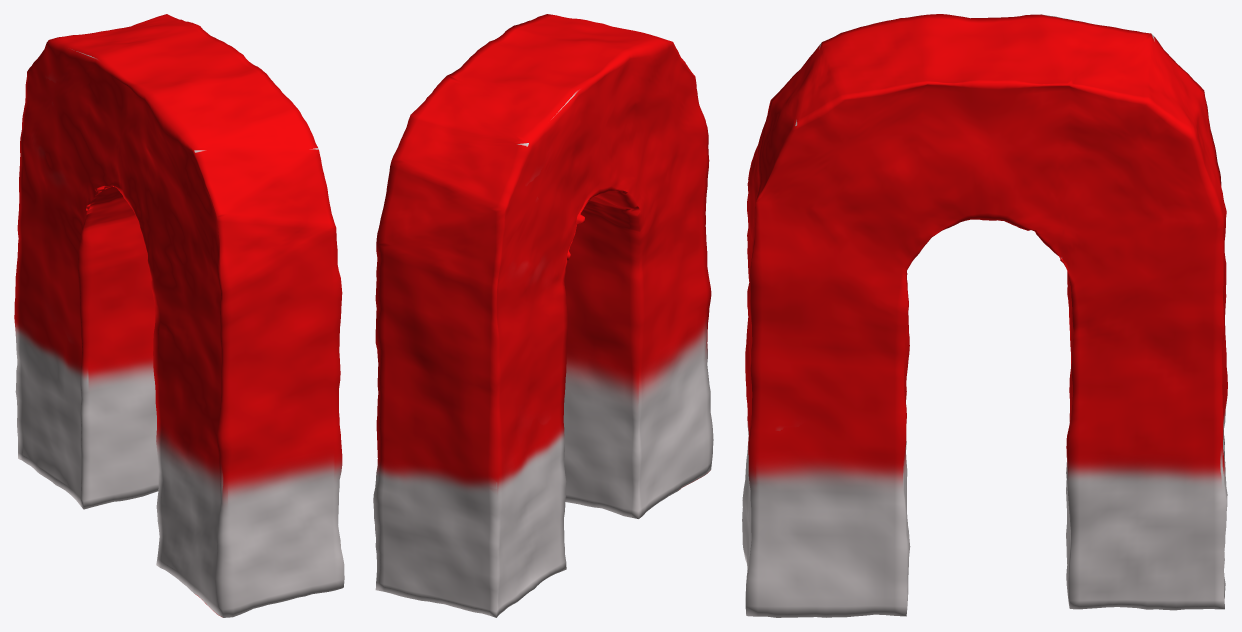
Rendered from Imán.glb.
The picture shows the model from 3 angles, left to right: view 1: azimuth 30°, elevation 25°; view 2: azimuth 150°, elevation 25°; view 3: azimuth 270°, elevation 25°; orthographic projection. The views are drawn at different scales.
Parts seen in each view (by area): view 1: imán; view 2: imán; view 3: imán.
Boxes of the visible parts, x1=… form: imán: x1=14, y1=14, x2=344, y2=617; imán: x1=373, y1=14, x2=713, y2=617; imán: x1=742, y1=14, x2=1227, y2=617.
Bounding box in the file's own units: 1.14 × 4.03 × 3.29.
Materials: 1 (1 with a texture image).
